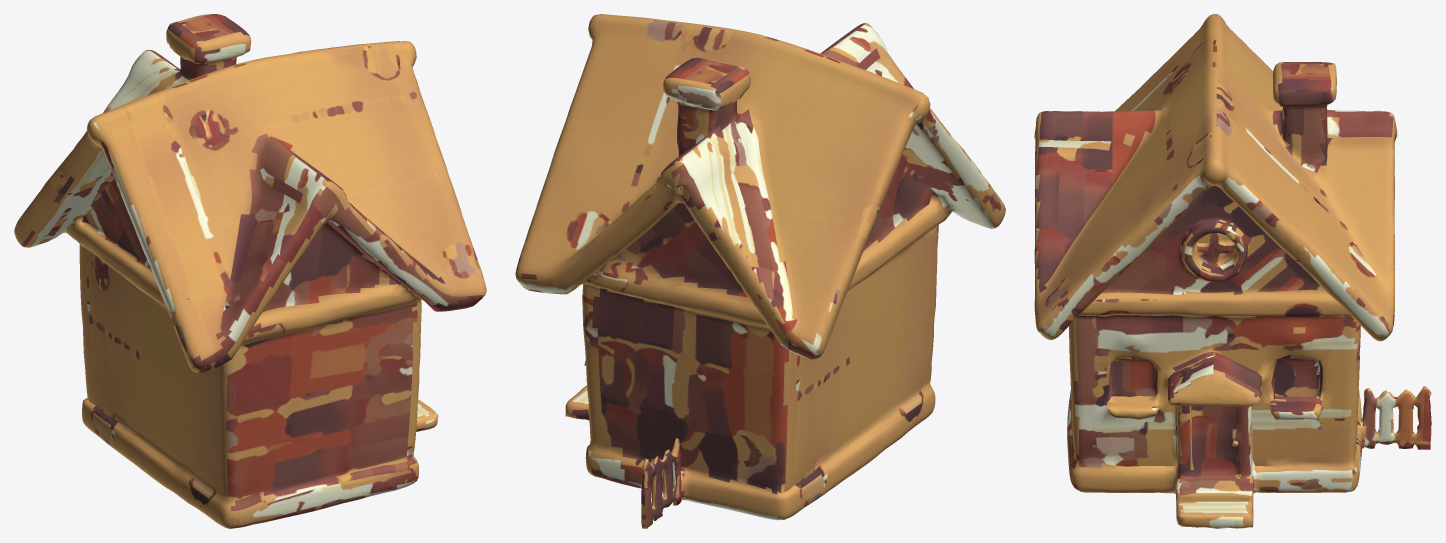
The model's file is B10_Cottage.fbx.
3 renders of one model, left to right at view 1: azimuth 30°, elevation 25°; view 2: azimuth 150°, elevation 25°; view 3: azimuth 270°, elevation 25°, orthographic. The views are drawn at different scales.
Parts seen in each view (by area): view 1: tripo_node_c00193cd; view 2: tripo_node_c00193cd; view 3: tripo_node_c00193cd.
Boxes of the visible parts, left/top/right/bottom form: tripo_node_c00193cd: left=14, top=14, right=486, bottom=528; tripo_node_c00193cd: left=515, top=14, right=1005, bottom=528; tripo_node_c00193cd: left=1034, top=14, right=1431, bottom=528.
Size of the model in its own units: 0.864 by 0.9779 by 0.927.
